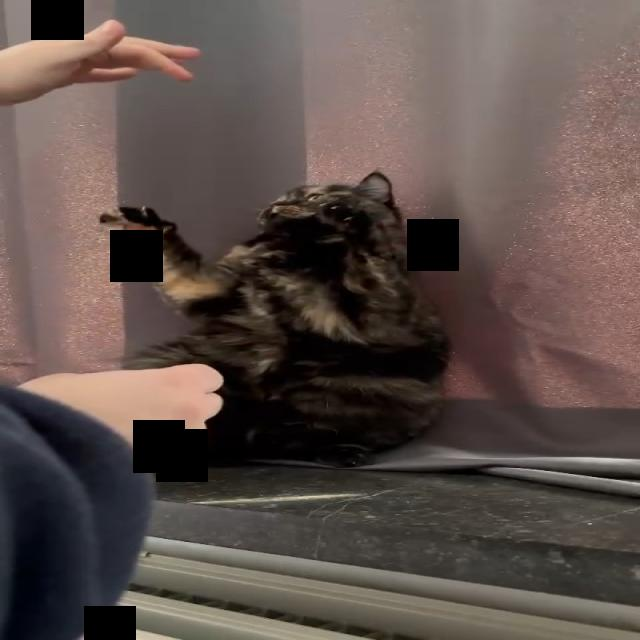authorized: (98, 169, 454, 468)
